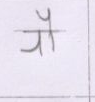o_matra: (45, 9, 57, 52)
